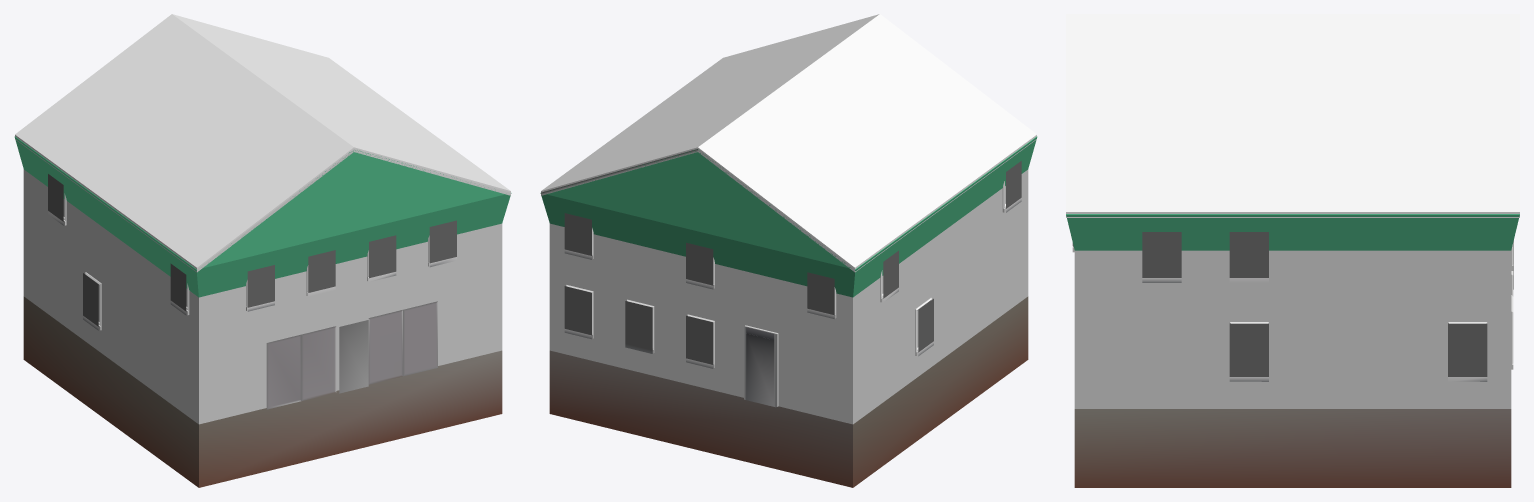
File: eca_bld_shop_town_c.dae
3 renders of one model, left to right at view 1: azimuth 30°, elevation 25°; view 2: azimuth 150°, elevation 25°; view 3: azimuth 270°, elevation 25°, orthographic. The views are drawn at different scales.
Parts seen in each view (by area): view 1: ind_bld_a400, ind_bld_a100, Colmesh-1; view 2: ind_bld_a100, ind_bld_a400, Colmesh-1; view 3: ind_bld_a400, ind_bld_a100, Colmesh-1.
Boxes of the visible parts, <box> form: ind_bld_a400: <box>15,14,510,424</box>; ind_bld_a100: <box>15,138,510,487</box>; Colmesh-1: <box>14,136,511,297</box>; ind_bld_a100: <box>541,138,1036,487</box>; ind_bld_a400: <box>541,14,1036,423</box>; Colmesh-1: <box>540,136,1037,297</box>; ind_bld_a400: <box>1066,14,1519,408</box>; ind_bld_a100: <box>1066,215,1519,487</box>; Colmesh-1: <box>1066,214,1519,250</box>.
Size of the model in its own units: 10.38 by 10.4 by 9.65.
